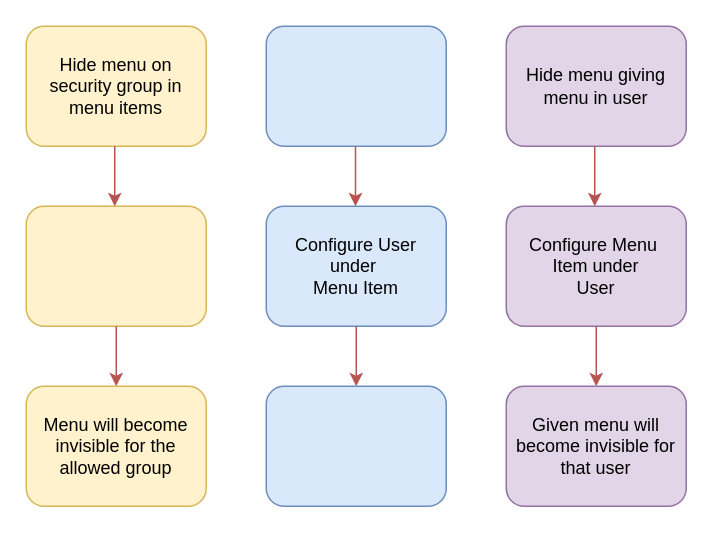
Image size: 713x533. Some labels were removed from this diagram. Each missing label, with the box of its shape:
Configure Group under Menu Item: (25, 205, 206, 326)
Hide menu on user in menu items: (265, 25, 446, 146)
Menu will become invisible for particular given user: (265, 385, 446, 506)
